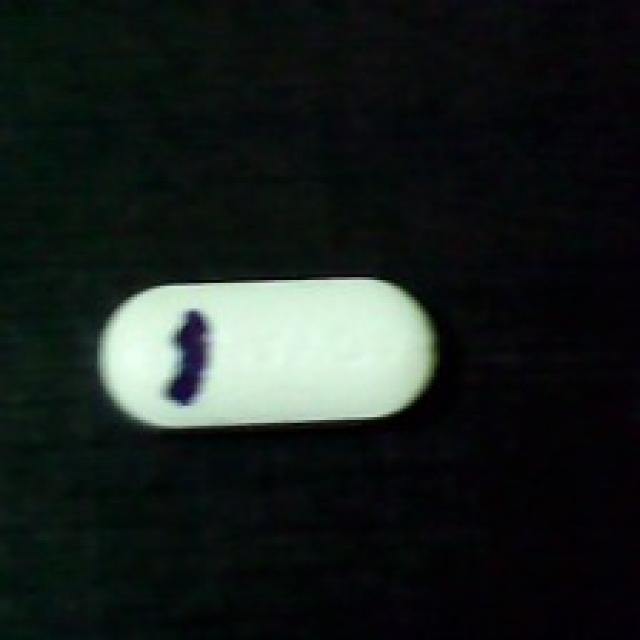defected: (91, 269, 440, 434)
